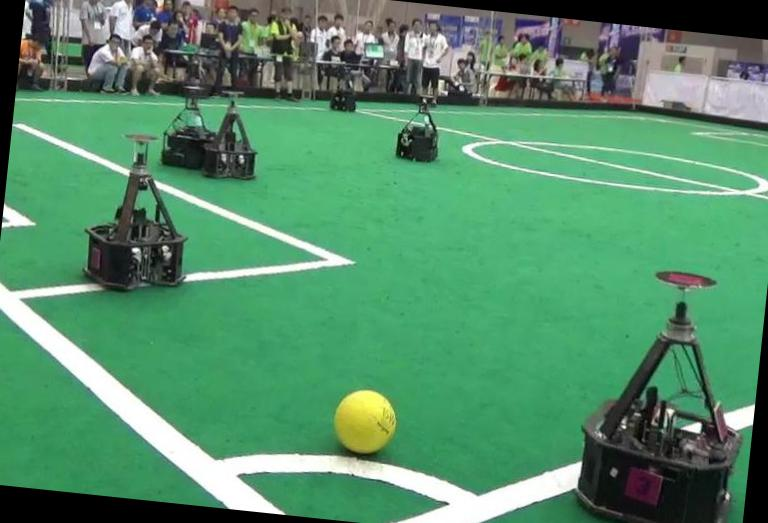ball: (334, 388, 397, 452)
person: (270, 6, 299, 100), (421, 20, 448, 110)
robot: (577, 270, 741, 523), (85, 133, 186, 288), (203, 90, 257, 179), (161, 85, 215, 167), (395, 95, 438, 160), (330, 67, 357, 111)
